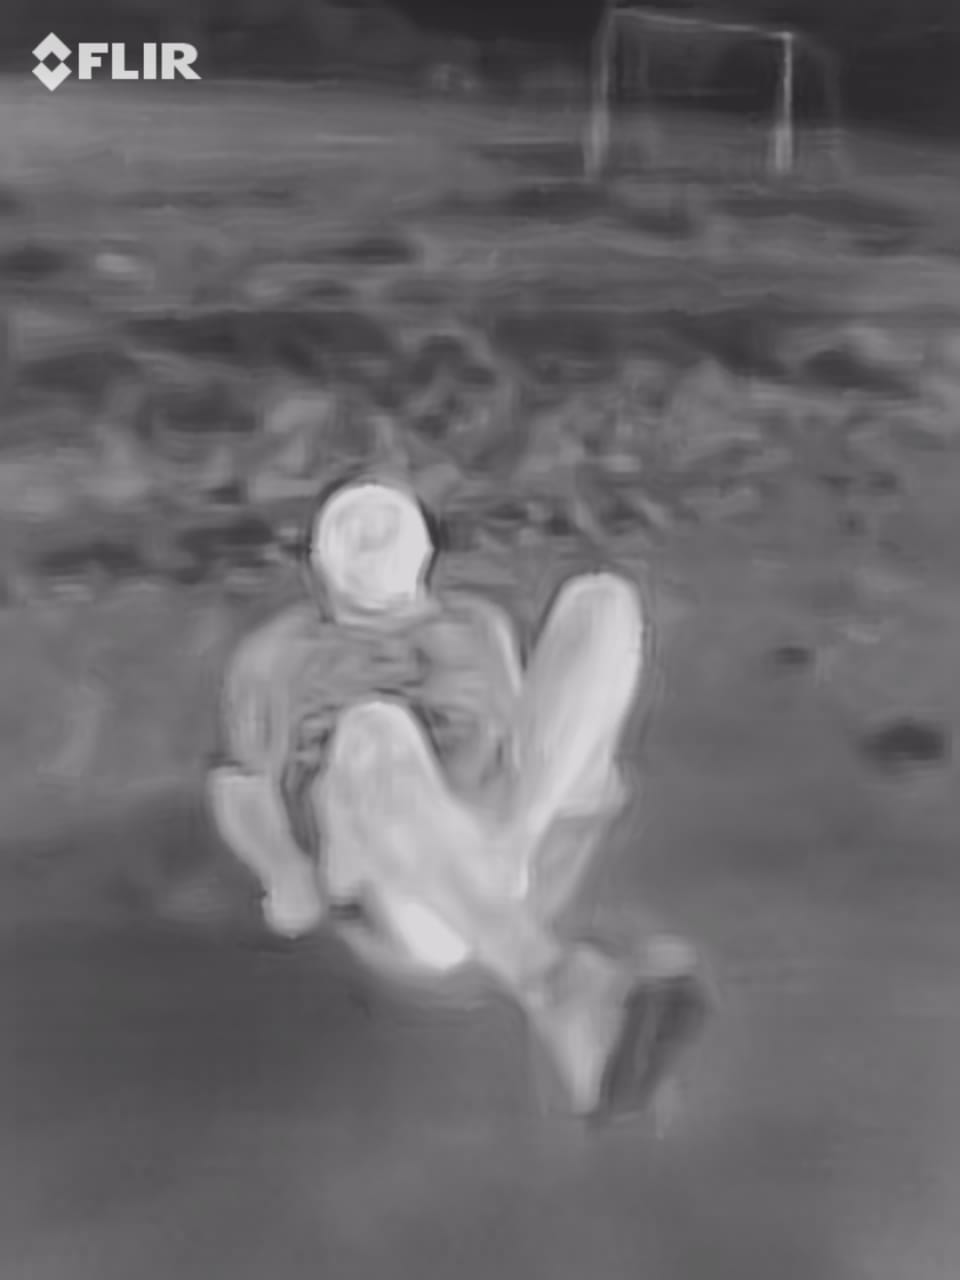head: (294, 464, 467, 623)
